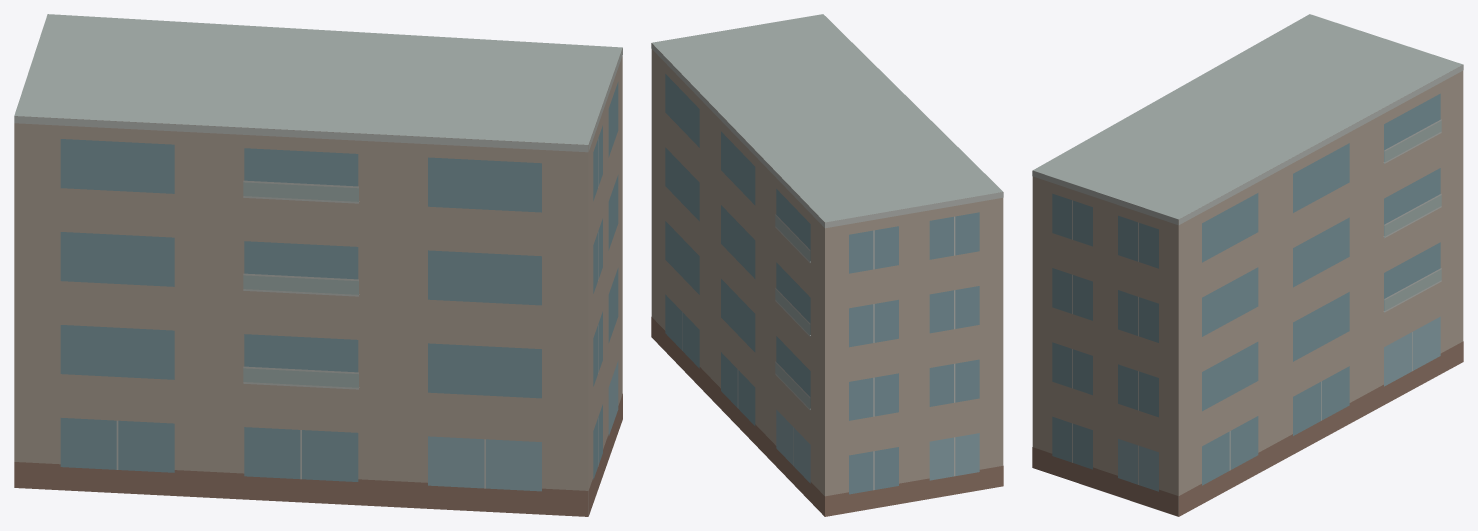
The model's file is survey-upis-32628388.glb.
3 views of the same model, side by side, from view 1: azimuth 30°, elevation 25°; view 2: azimuth 150°, elevation 25°; view 3: azimuth 270°, elevation 25° (orthographic). The views are drawn at different scales.
Parts seen in each view (by area): view 1: survey-upis-32628388.tmp; view 2: survey-upis-32628388.tmp; view 3: survey-upis-32628388.tmp.
Part boxes in pixels (left/top/right/bottom): survey-upis-32628388.tmp: left=14, top=14, right=622, bottom=516; survey-upis-32628388.tmp: left=651, top=14, right=1003, bottom=516; survey-upis-32628388.tmp: left=1032, top=14, right=1463, bottom=516.
Size of the model in its own units: 18.38 by 12.4 by 16.29.
